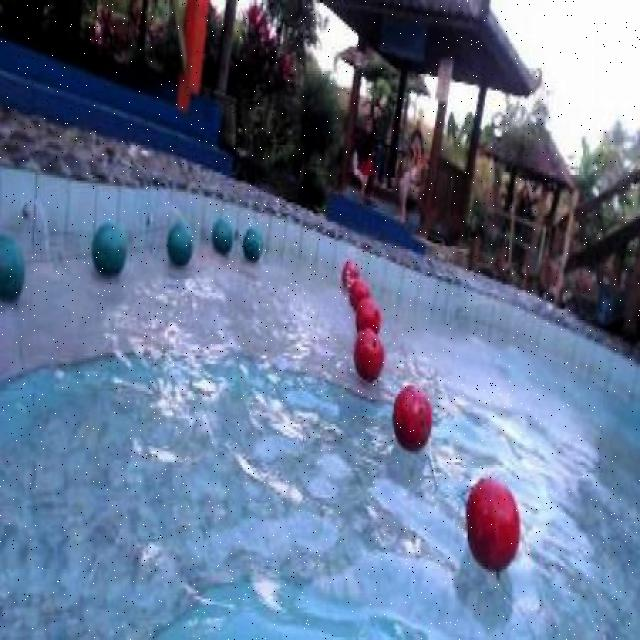buoy: (464, 477, 520, 573), (392, 384, 432, 452), (90, 222, 124, 276), (354, 325, 384, 380), (1, 234, 23, 302), (355, 295, 380, 339), (167, 224, 190, 268), (349, 276, 371, 314), (212, 218, 232, 253), (241, 227, 261, 259)
